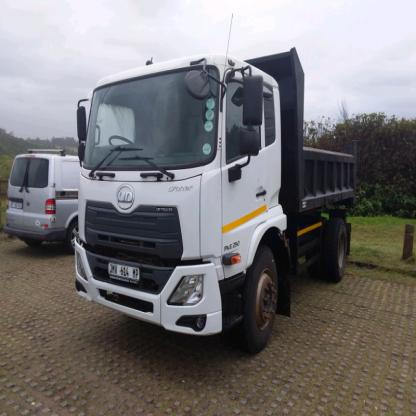dump_truck: (66, 36, 371, 365)
